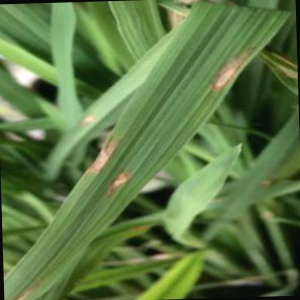Brown_Spot: (193, 37, 268, 103), (68, 122, 125, 179), (93, 165, 147, 204)
